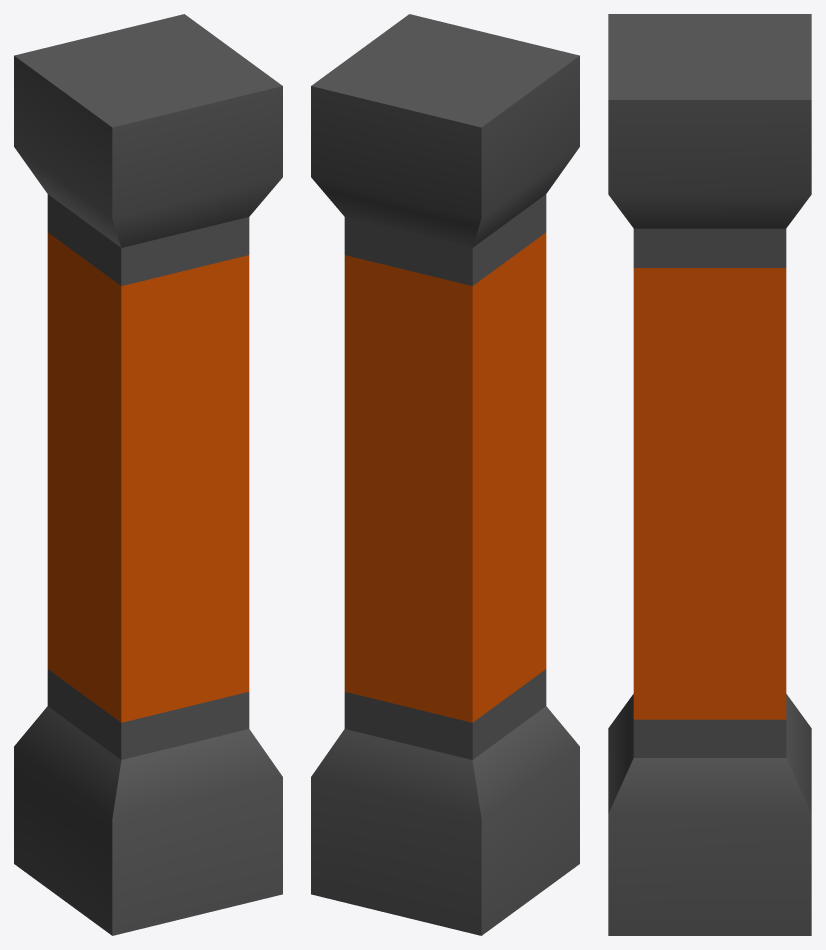
Rendered from env_ruin_pillar_11_lod1.fbx.
The picture shows the model from 3 angles, left to right: view 1: azimuth 30°, elevation 25°; view 2: azimuth 150°, elevation 25°; view 3: azimuth 270°, elevation 25°; orthographic projection. The views are drawn at different scales.
Visible parts, largest first — view 1: Cube.001; view 2: Cube.001; view 3: Cube.001.
Part boxes in pixels (x1,y1,x2,y2): Cube.001: (14,14,282,935); Cube.001: (311,14,579,935); Cube.001: (608,14,811,935).
Bounding box in the file's own units: 6.29 × 28.5 × 6.29.
